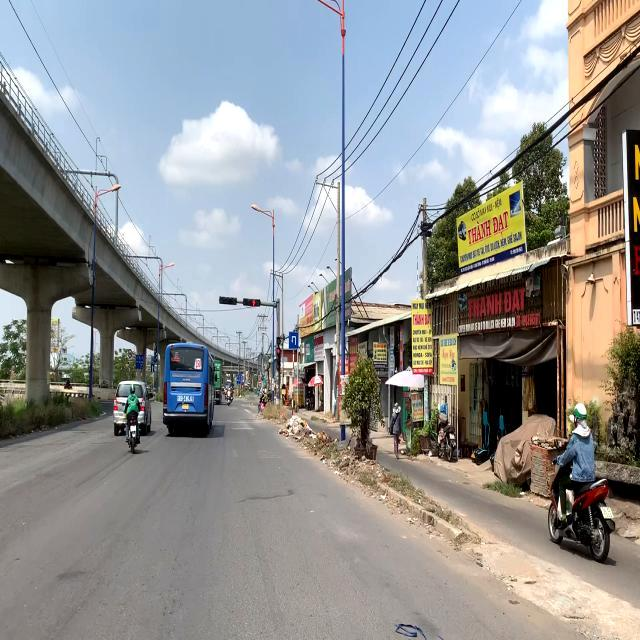Cho quay xe: (289, 332, 298, 349)
